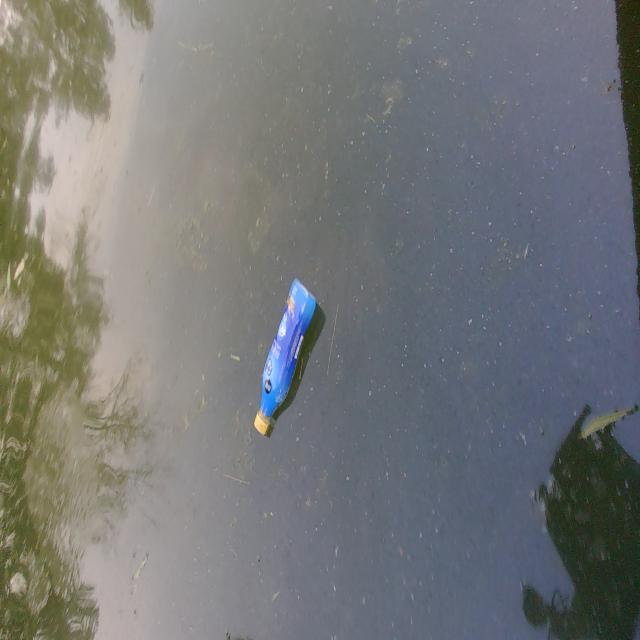bottle: (235, 238, 347, 448)
